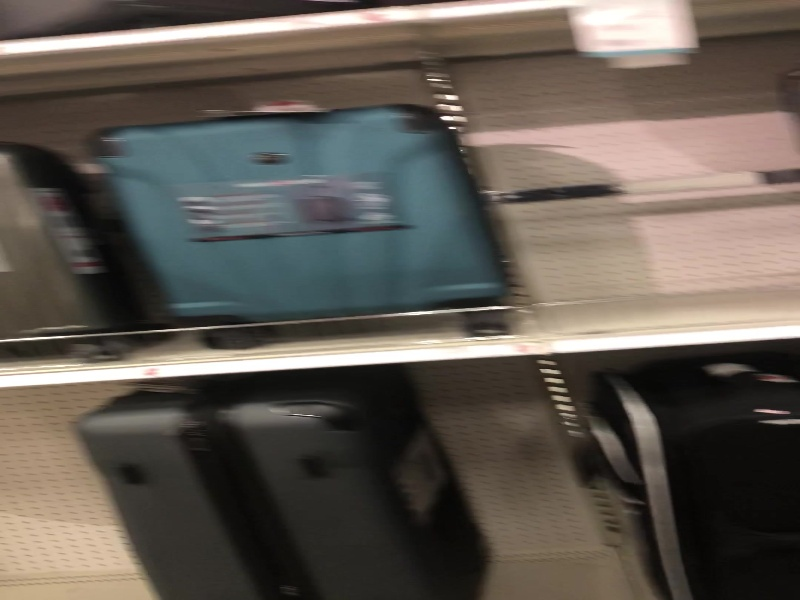void: (517, 1, 800, 334), (407, 365, 630, 600), (1, 382, 81, 600)
